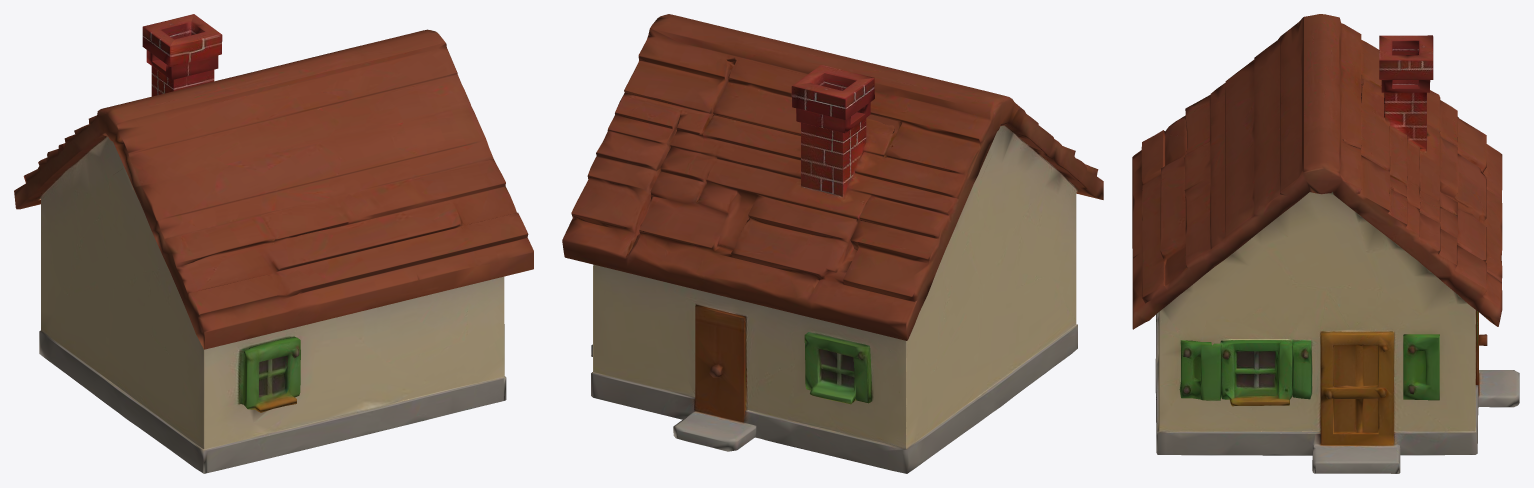
File: farmhouse.glb
3 views of the same model, side by side, from view 1: azimuth 30°, elevation 25°; view 2: azimuth 150°, elevation 25°; view 3: azimuth 270°, elevation 25° (orthographic). The views are drawn at different scales.
Visible parts, largest first — view 1: FarmhouseBody; view 2: FarmhouseBody; view 3: FarmhouseBody.
Part boxes in pixels (x1,y1,x2,y2): FarmhouseBody: [14, 14, 533, 473]; FarmhouseBody: [562, 14, 1103, 473]; FarmhouseBody: [1132, 14, 1519, 473].
Bounding box in the file's own units: 6 × 5.23 × 5.84.
1 material, 1 textured.
